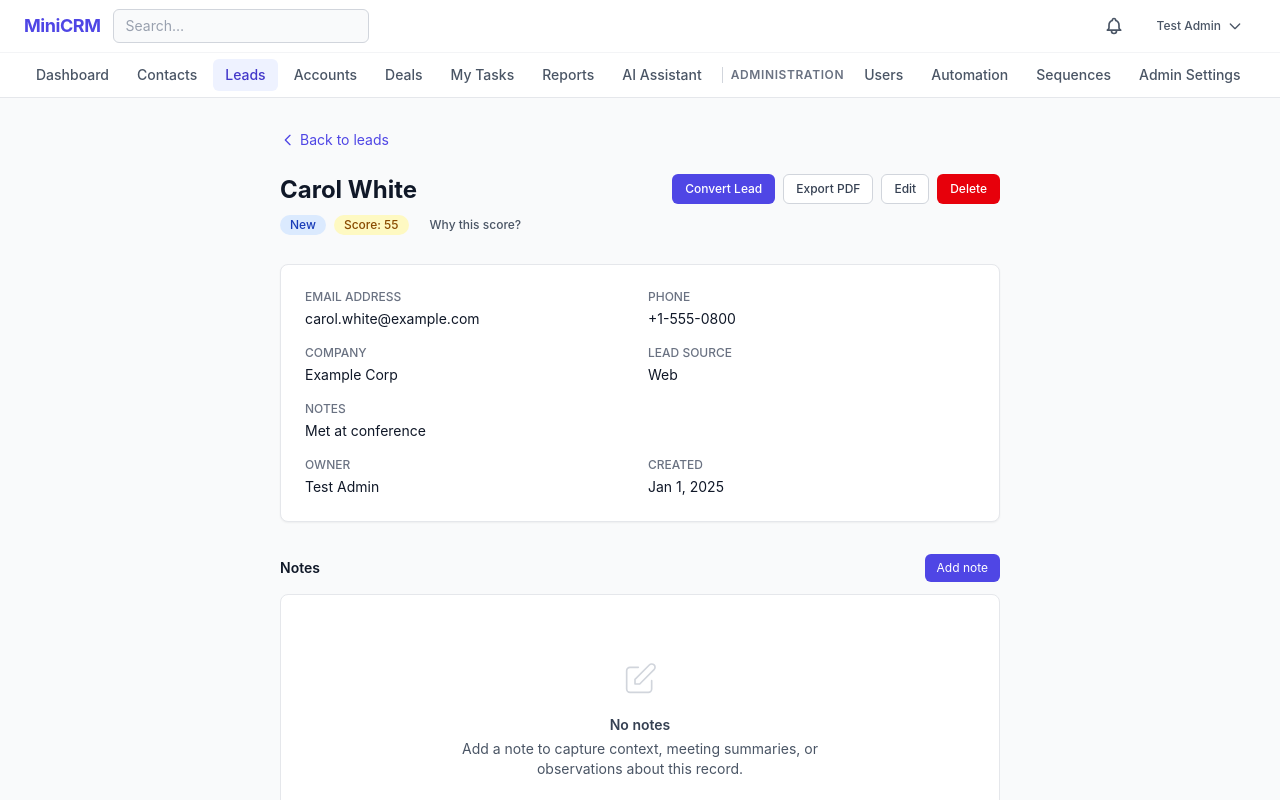
Test: LeadDetailPage › hides the edit form when Cancel is clicked
What coordinates should you click on to do the following:
click the button with test id "edit-lead-button"
I would click on:
 (905, 189)
Its box is x1=881 y1=174 x2=929 y2=204.
(page scrolled)
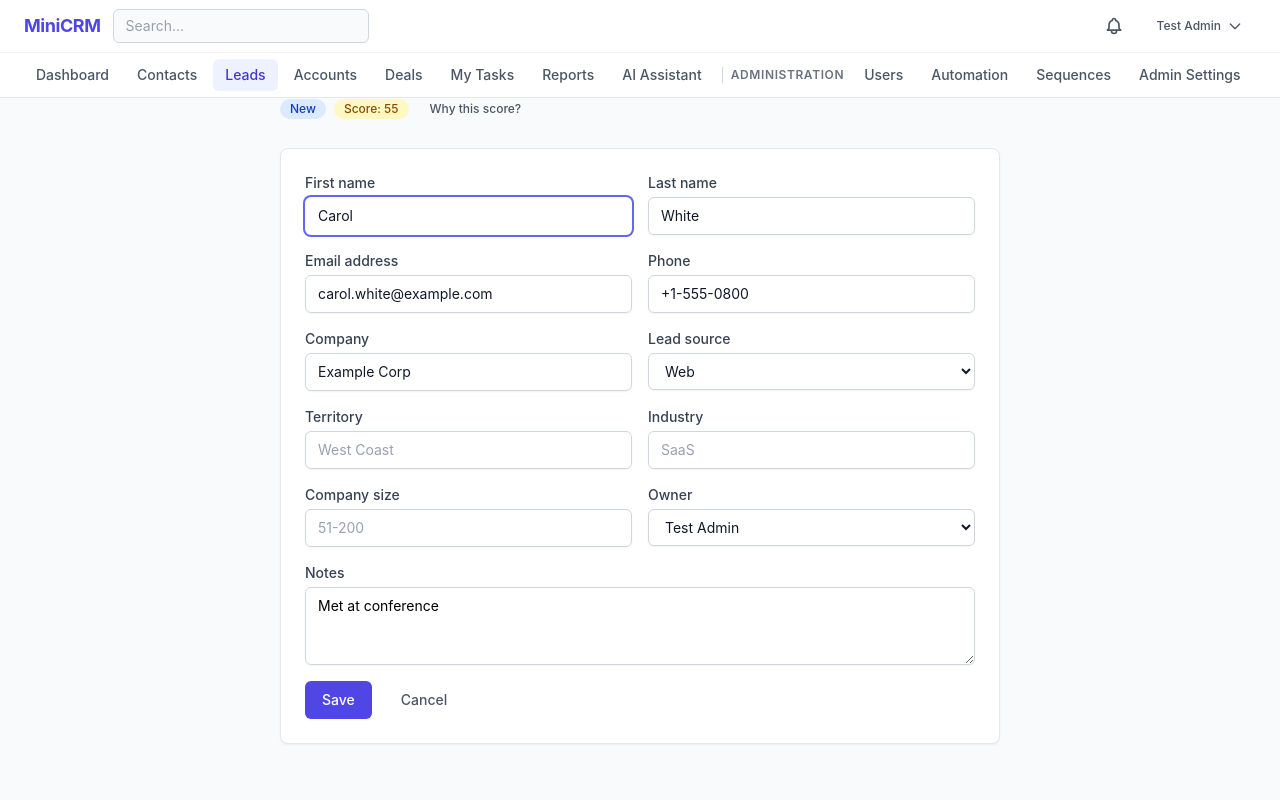
Expected: the form with test id "lead-form" is shown, x1=305 y1=173 x2=975 y2=719
What coordinates should you click on to do the following:
click the button with test id "lead-form-cancel"
I would click on:
 (424, 700)
Its box is x1=384 y1=681 x2=464 y2=719.
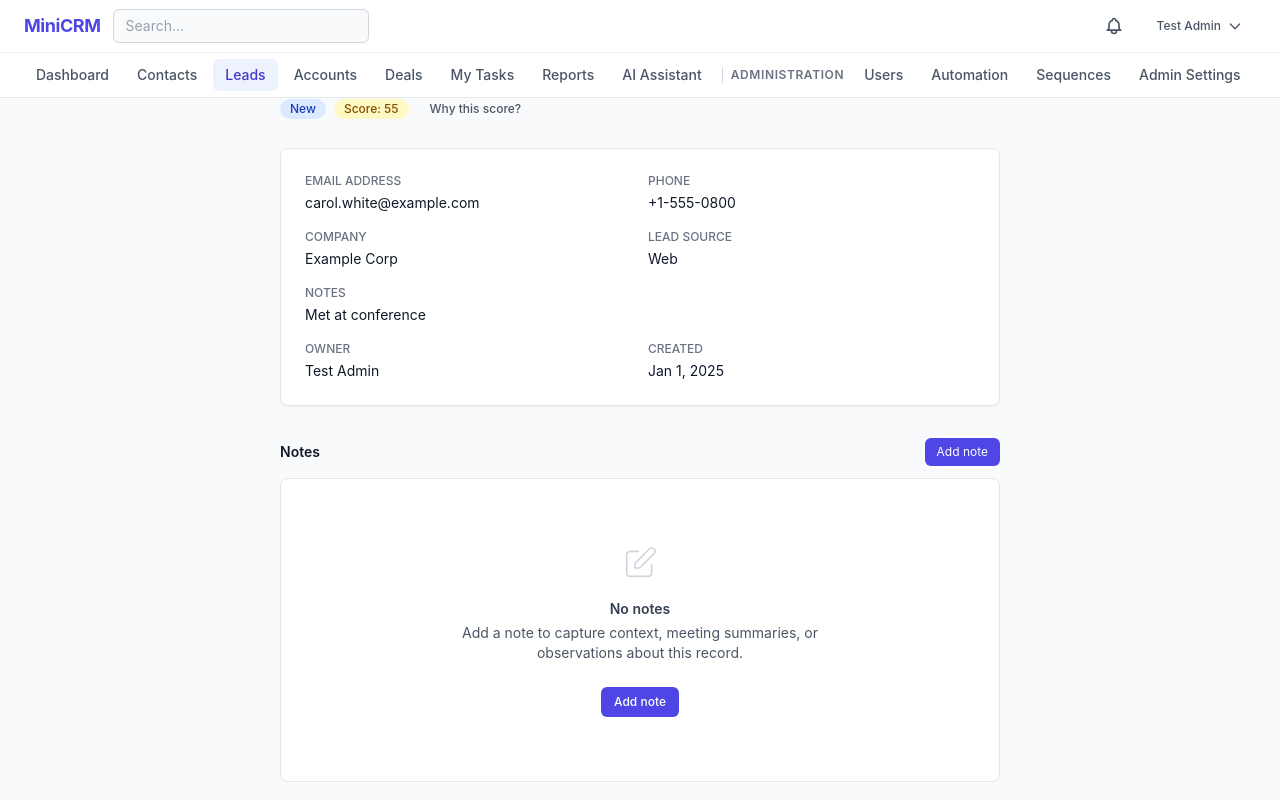
Expected: the form with test id "lead-form" is gone
